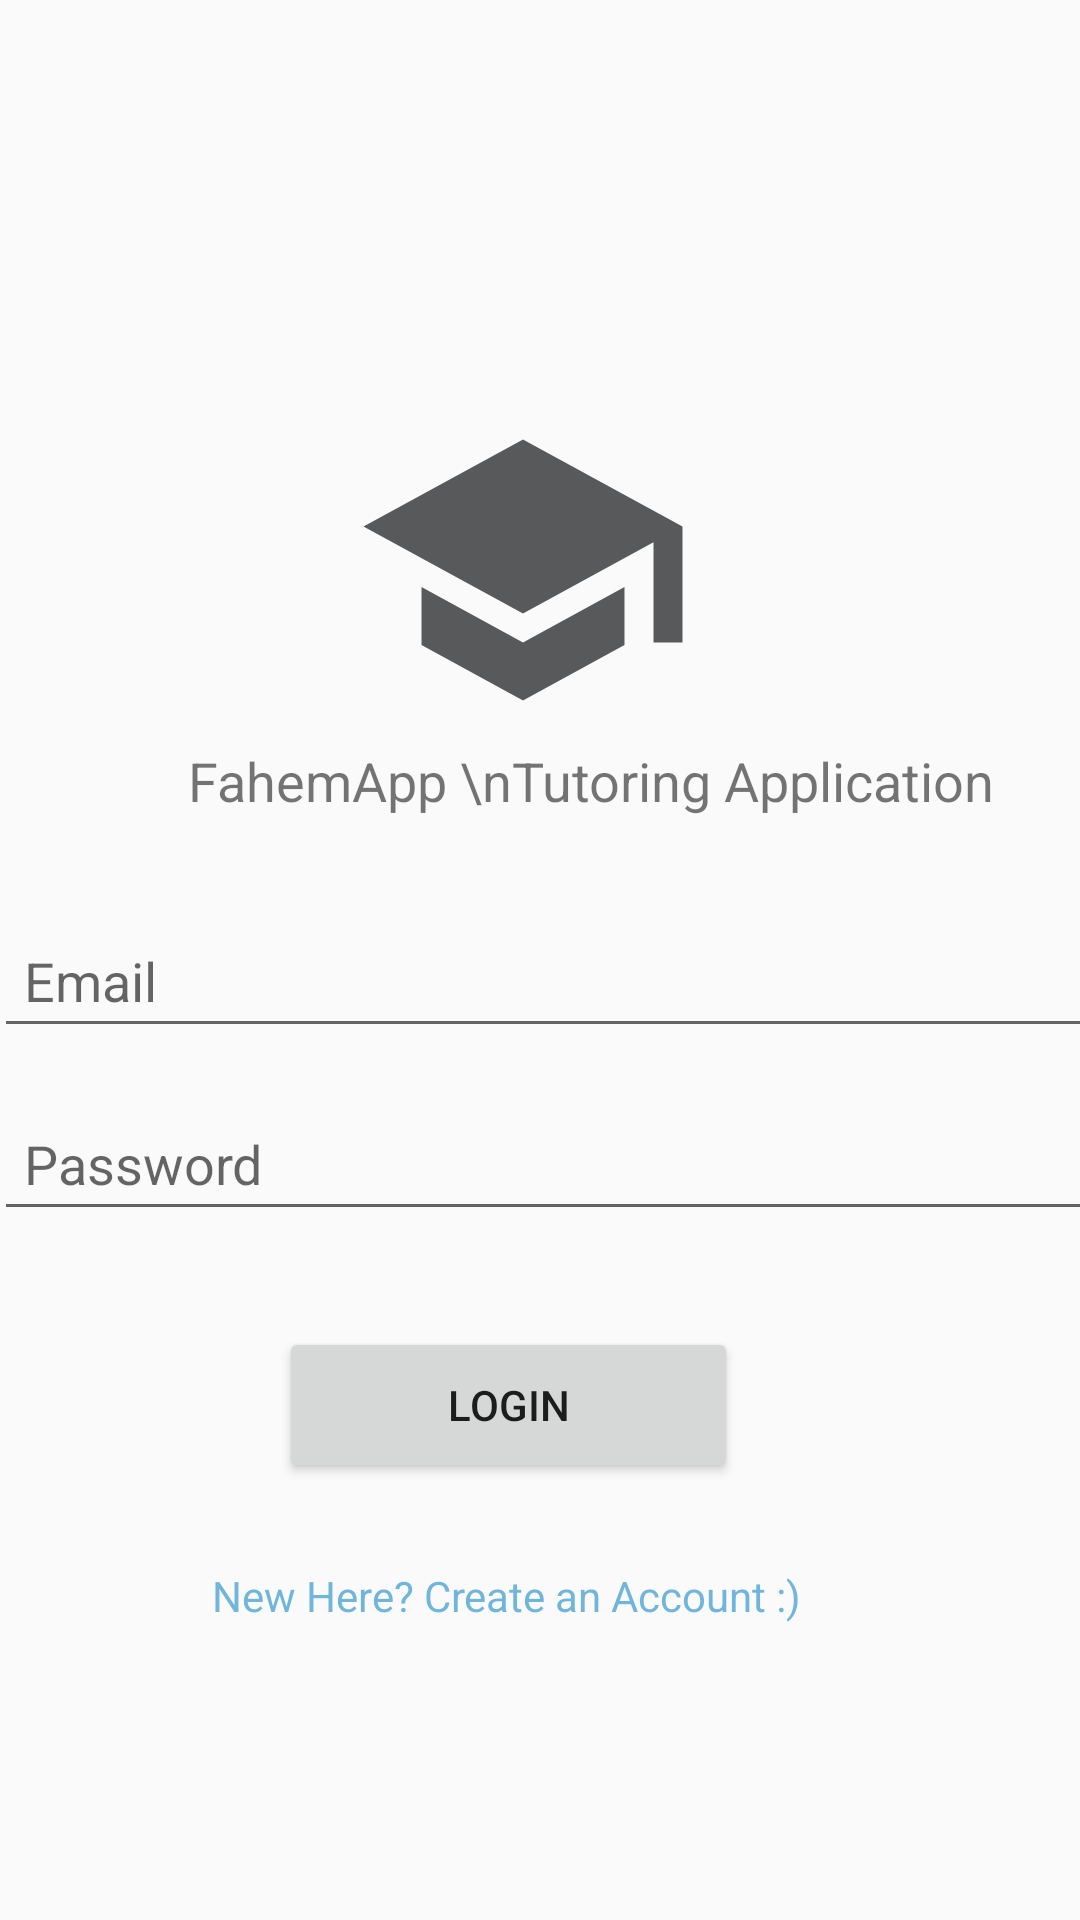

Locate icon controls on the screen. Image size 1080x1920, boxes as box=[x1, y1, x2, y2].
school: box=[364, 439, 683, 701]
